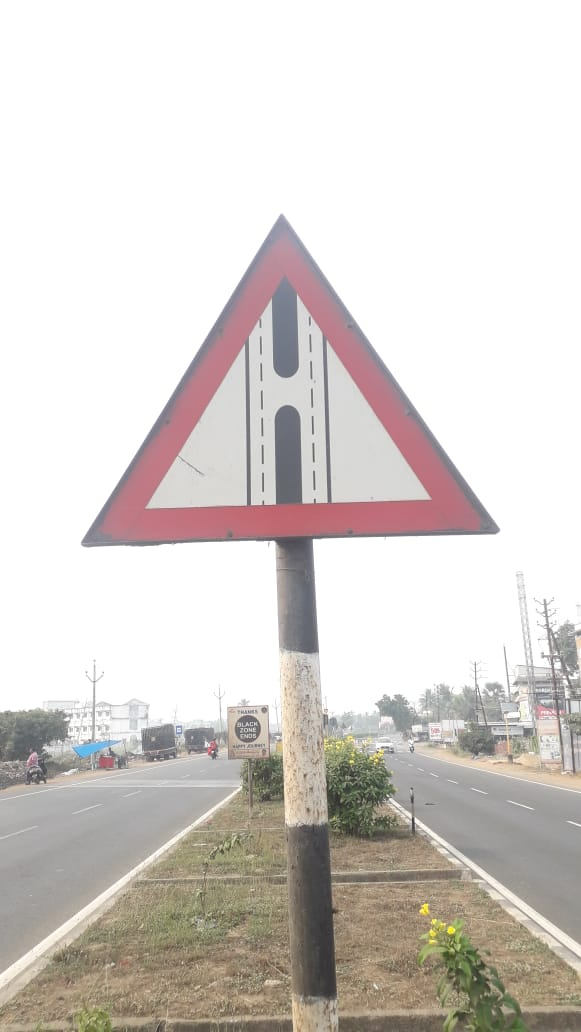highway go straight: (43, 202, 525, 590)
